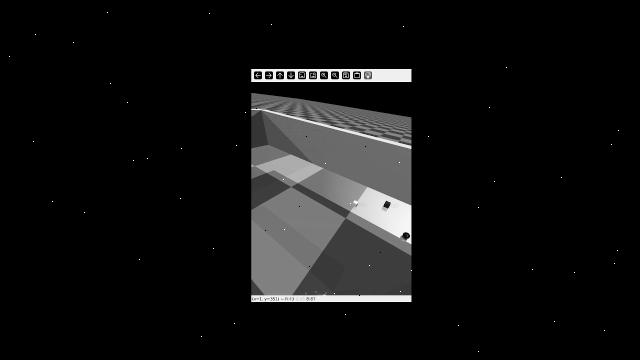cuadrado: (384, 200, 393, 210), (351, 200, 360, 207)
esfera: (401, 230, 410, 240)
